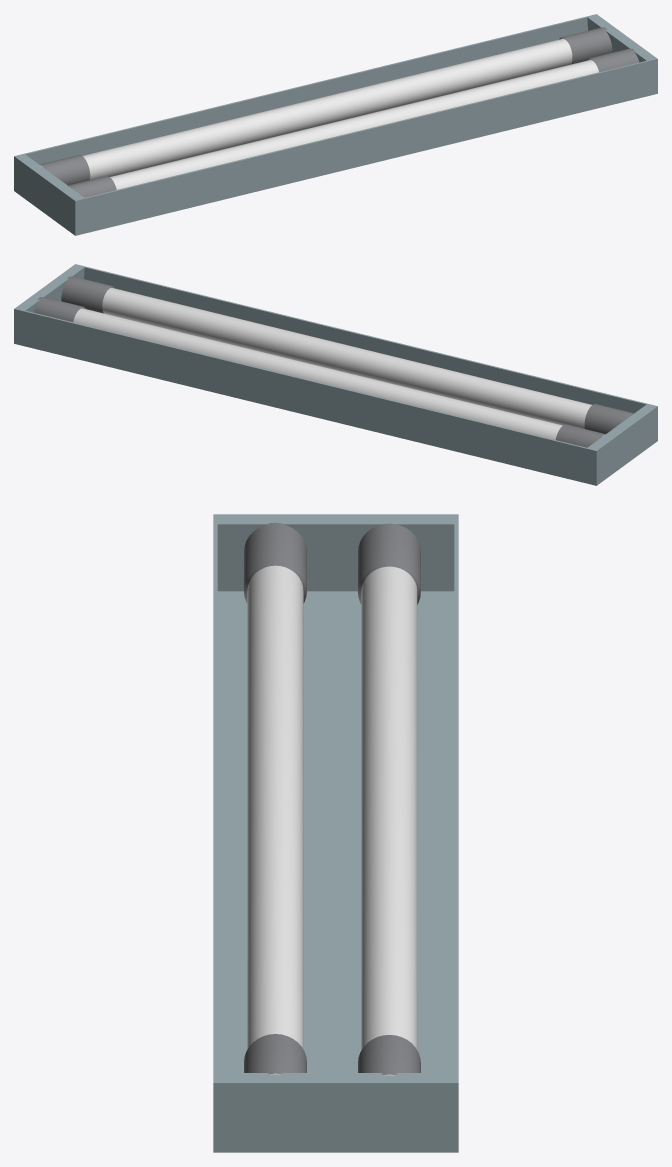
File: light.fbx
The picture shows the model from 3 angles, top to bottom: view 1: azimuth 30°, elevation 25°; view 2: azimuth 150°, elevation 25°; view 3: azimuth 270°, elevation 25°; orthographic projection. The views are drawn at different scales.
Visible parts, largest first — view 1: Cube.012, Cylinder.006, Cylinder.005; view 2: Cube.012, Cylinder.005, Cylinder.006; view 3: Cube.012, Cylinder.005, Cylinder.006.
Part boxes in pixels (x1,y1,x2,y2): Cube.012: (14, 14, 657, 235); Cylinder.006: (40, 27, 612, 185); Cylinder.005: (67, 48, 639, 197); Cube.012: (14, 264, 657, 485); Cylinder.005: (61, 276, 634, 433); Cylinder.006: (34, 297, 605, 447); Cube.012: (213, 514, 458, 1152); Cylinder.005: (244, 522, 306, 1074); Cylinder.006: (358, 523, 420, 1075).
Bounding box in the file's own units: 148 × 27.02 × 8.56.
